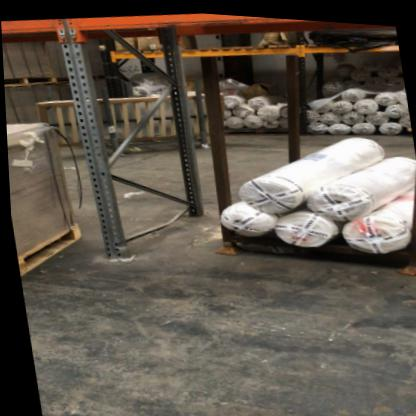vertical_damage: (92, 227, 135, 264)
